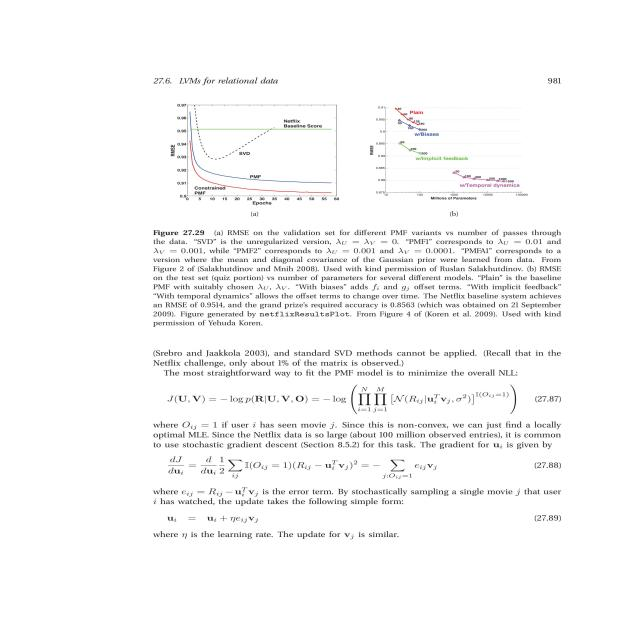diagram: (104, 56, 608, 217)
